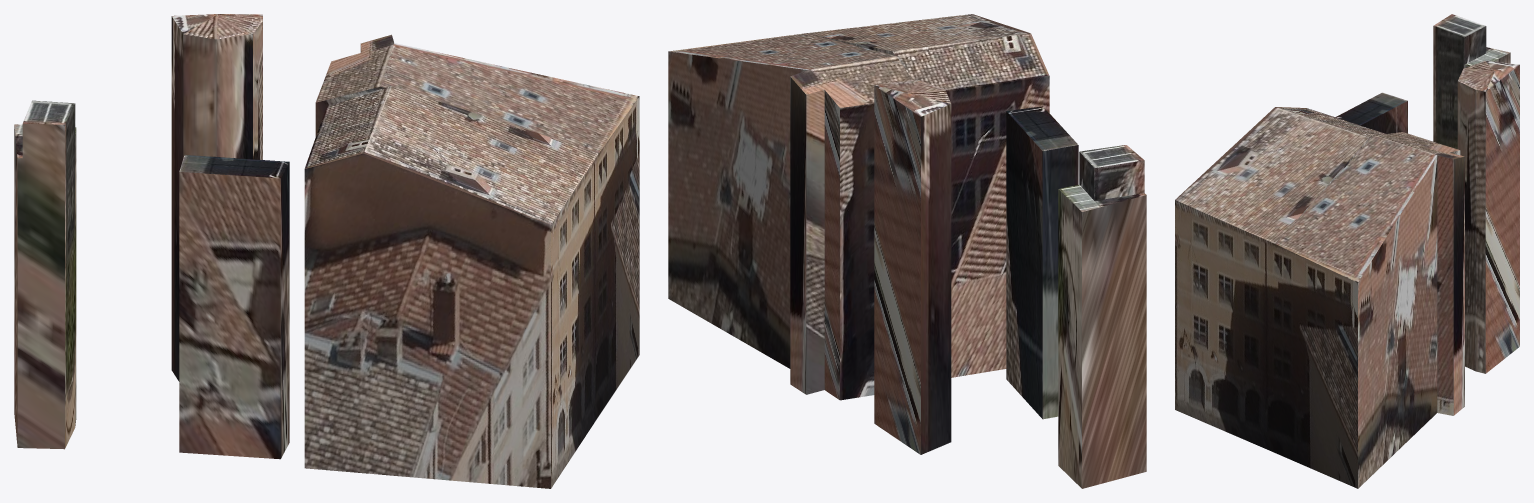
3 views of the same model, side by side, from view 1: azimuth 30°, elevation 25°; view 2: azimuth 150°, elevation 25°; view 3: azimuth 270°, elevation 25° (orthographic). The views are drawn at different scales.
Parts seen in each view (by area): view 1: Z_UP; view 2: Z_UP; view 3: Z_UP.
Boxes of the visible parts, <box> form: Z_UP: <box>14,14,639,488</box>; Z_UP: <box>668,14,1146,488</box>; Z_UP: <box>1175,14,1519,488</box>.
Size of the model in its own units: 31.89 by 19.55 by 21.31.
2 materials, 1 textured.
